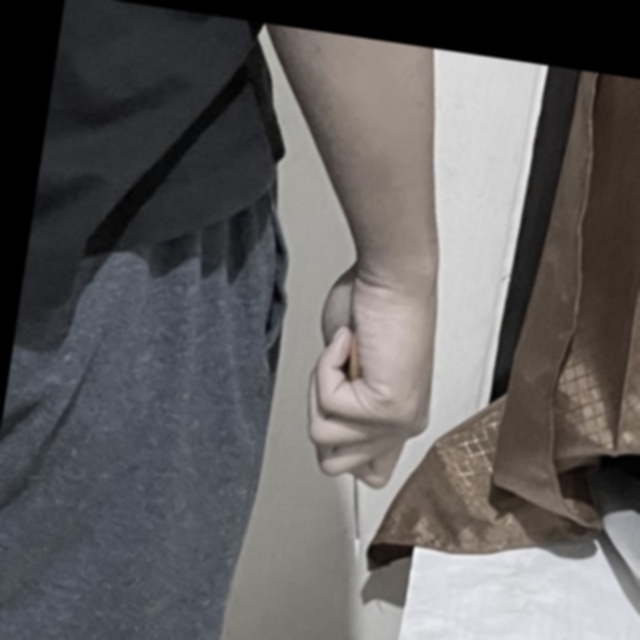Sharp-Object: (312, 327, 397, 568)
